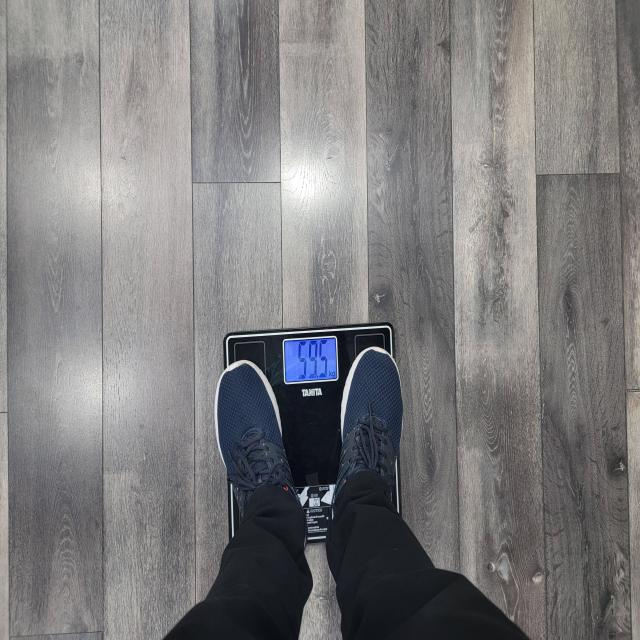ws: (224, 325, 395, 491)
